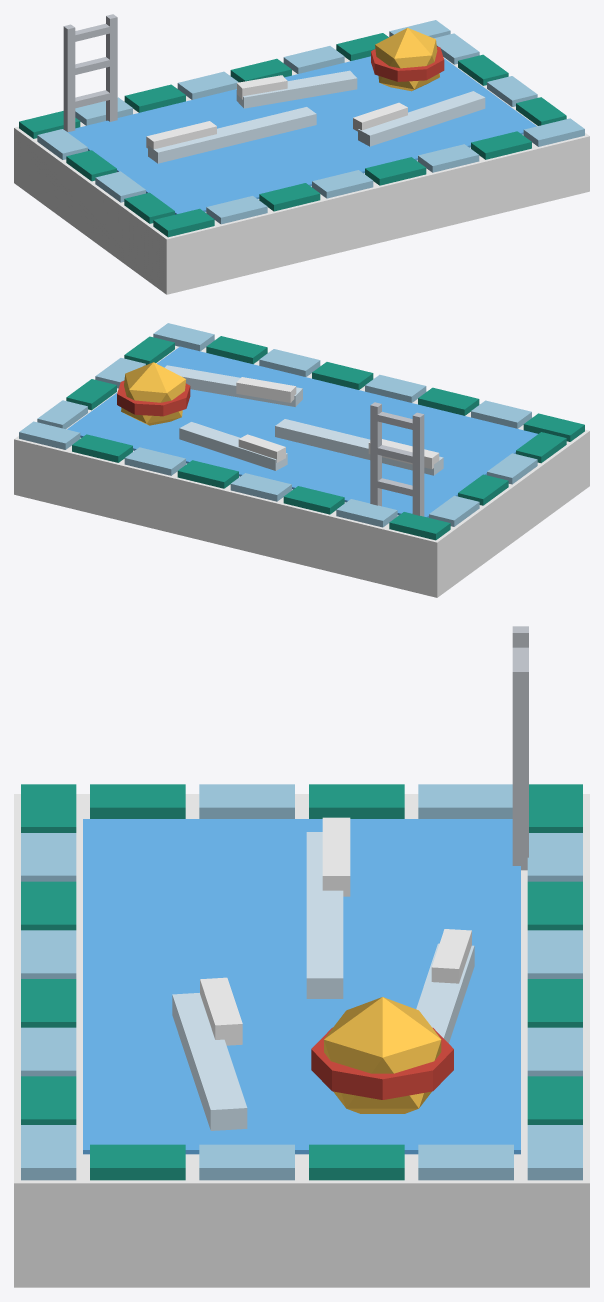
File: CatCafe_Decor_WavePoolTiles.glb
The picture shows the model from 3 angles, top to bottom: view 1: azimuth 30°, elevation 25°; view 2: azimuth 150°, elevation 25°; view 3: azimuth 270°, elevation 25°; orthographic projection. The views are drawn at different scales.
Parts seen in each view (by area): view 1: CatCafe_Decor_WavePoolTiles, CatCafe_Decor_WavePoolTiles_Water; view 2: CatCafe_Decor_WavePoolTiles, CatCafe_Decor_WavePoolTiles_Water; view 3: CatCafe_Decor_WavePoolTiles, CatCafe_Decor_WavePoolTiles_Water.
Boxes of the visible parts, bbox=[...] form: CatCafe_Decor_WavePoolTiles: bbox=[14, 14, 589, 294]; CatCafe_Decor_WavePoolTiles_Water: bbox=[66, 56, 536, 214]; CatCafe_Decor_WavePoolTiles: bbox=[14, 323, 589, 597]; CatCafe_Decor_WavePoolTiles_Water: bbox=[67, 346, 537, 517]; CatCafe_Decor_WavePoolTiles: bbox=[14, 626, 589, 1287]; CatCafe_Decor_WavePoolTiles_Water: bbox=[83, 819, 520, 1154].
Bounding box in the file's own units: 4 × 1.45 × 2.5.
Materials: 1 (1 with a texture image).
